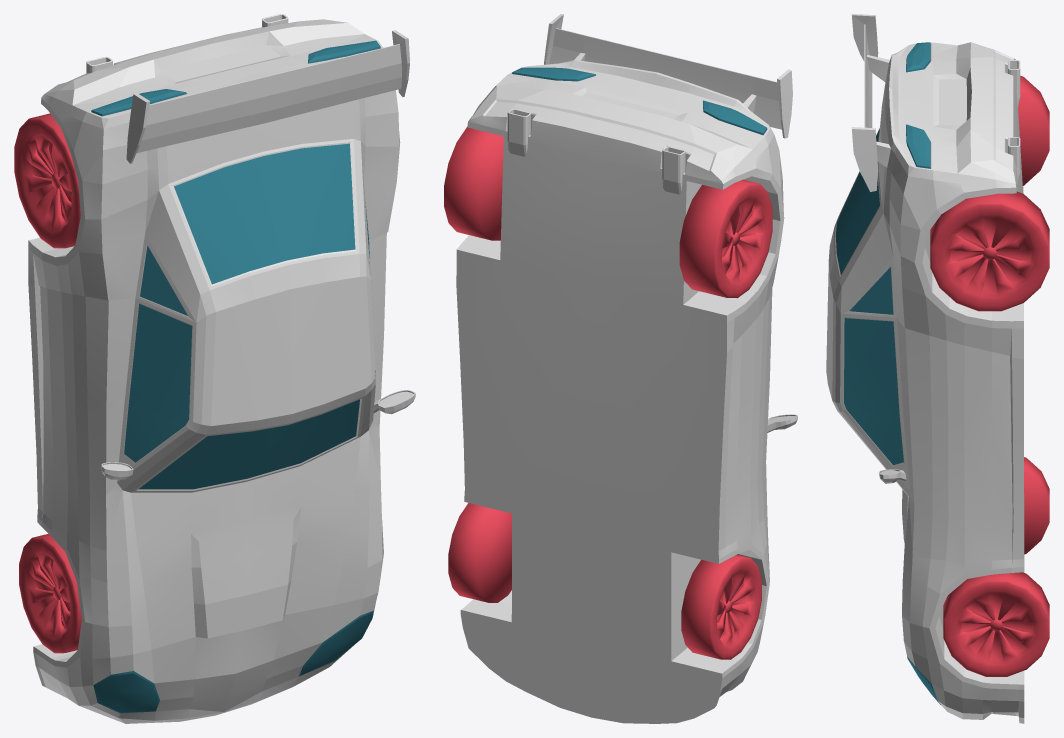
Rendered from sportcar.017.gltf.
3 renders of one model, left to right at view 1: azimuth 30°, elevation 25°; view 2: azimuth 150°, elevation 25°; view 3: azimuth 270°, elevation 25°, orthographic. The views are drawn at different scales.
Visible parts, largest first — view 1: Body, Glass, WheelRR, WheelFR; view 2: Body, WheelRR, WheelFR, WheelRL, WheelFL, Glass; view 3: Body, WheelRL, Glass, WheelFL, WheelRR, WheelFR.
Part boxes in pixels (x1,y1,x2,y2): Body: (28, 14, 415, 723); Glass: (91, 40, 380, 713); WheelRR: (14, 113, 80, 248); WheelFR: (19, 534, 81, 653); Body: (456, 14, 797, 723); WheelRR: (679, 179, 772, 298); WheelFR: (681, 554, 761, 659); WheelRL: (444, 126, 503, 240); WheelFL: (448, 503, 511, 602); Glass: (512, 67, 767, 134); Body: (826, 14, 1024, 723); WheelRL: (930, 191, 1049, 311); Glass: (836, 42, 941, 705); WheelFL: (943, 572, 1049, 676); WheelRR: (1018, 75, 1049, 185); WheelFR: (1024, 457, 1049, 554).
Bounding box in the file's own units: 1.93 × 4.08 × 1.32.
